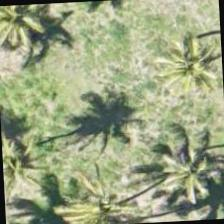Kelapa_Sawit: (138, 133, 223, 222), (0, 102, 78, 197), (150, 10, 223, 104), (55, 155, 150, 223)
